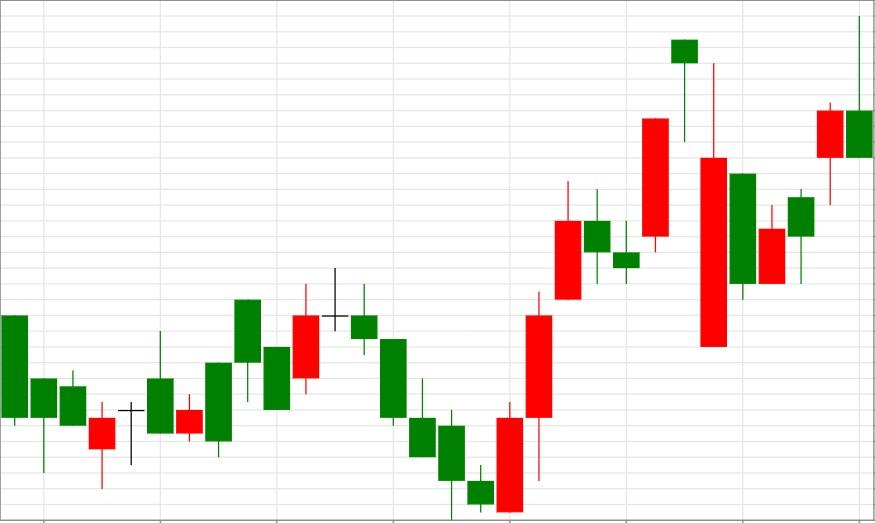bullish_engulfing_rise: (321, 267, 524, 520)
hanging_man_fall: (612, 39, 699, 283)
